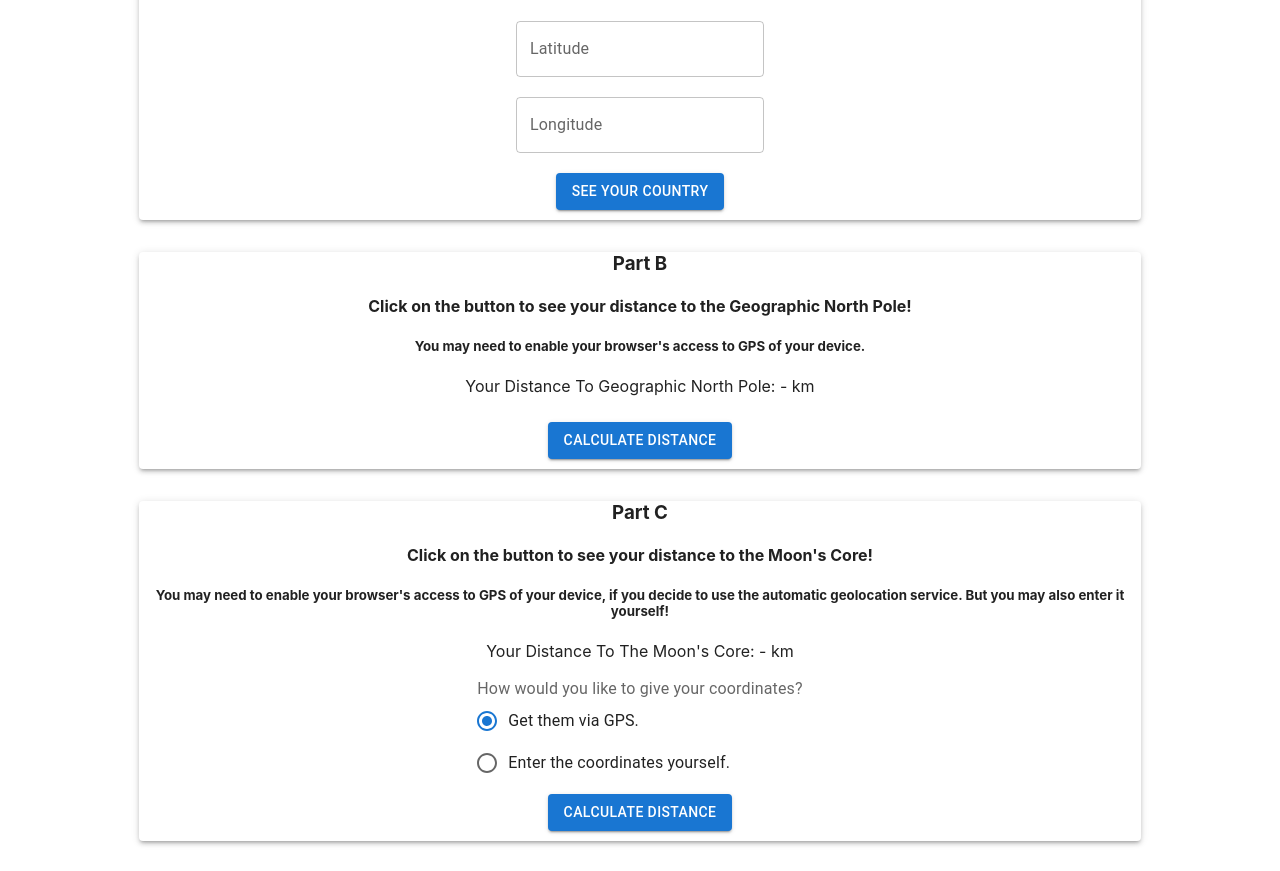
Test: Checking for manual input to part C (like part A): › do not accept wrong coordinates (both)
(page scrolled)
Step 1. Click the radio button labelled "Enter the coordinates yourself." → (603, 763), box [475,751,730,775]
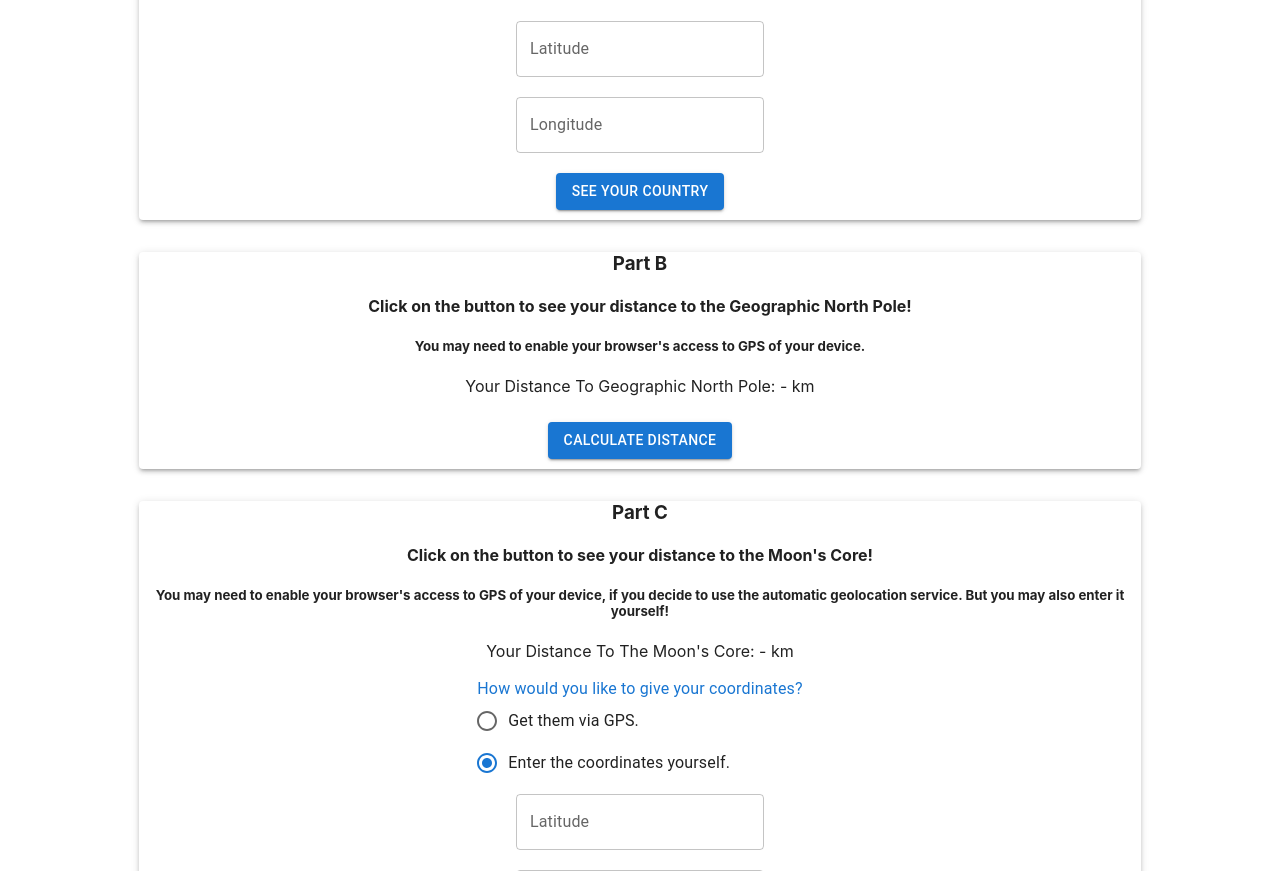
expect the radio button labelled "Enter the coordinates yourself." is checked: met, box [475,751,730,775]
Step 2. Type "-110.1054" into the field with test id "part-c-field-1" → (640, 822), box [516,794,764,850]
(page scrolled)
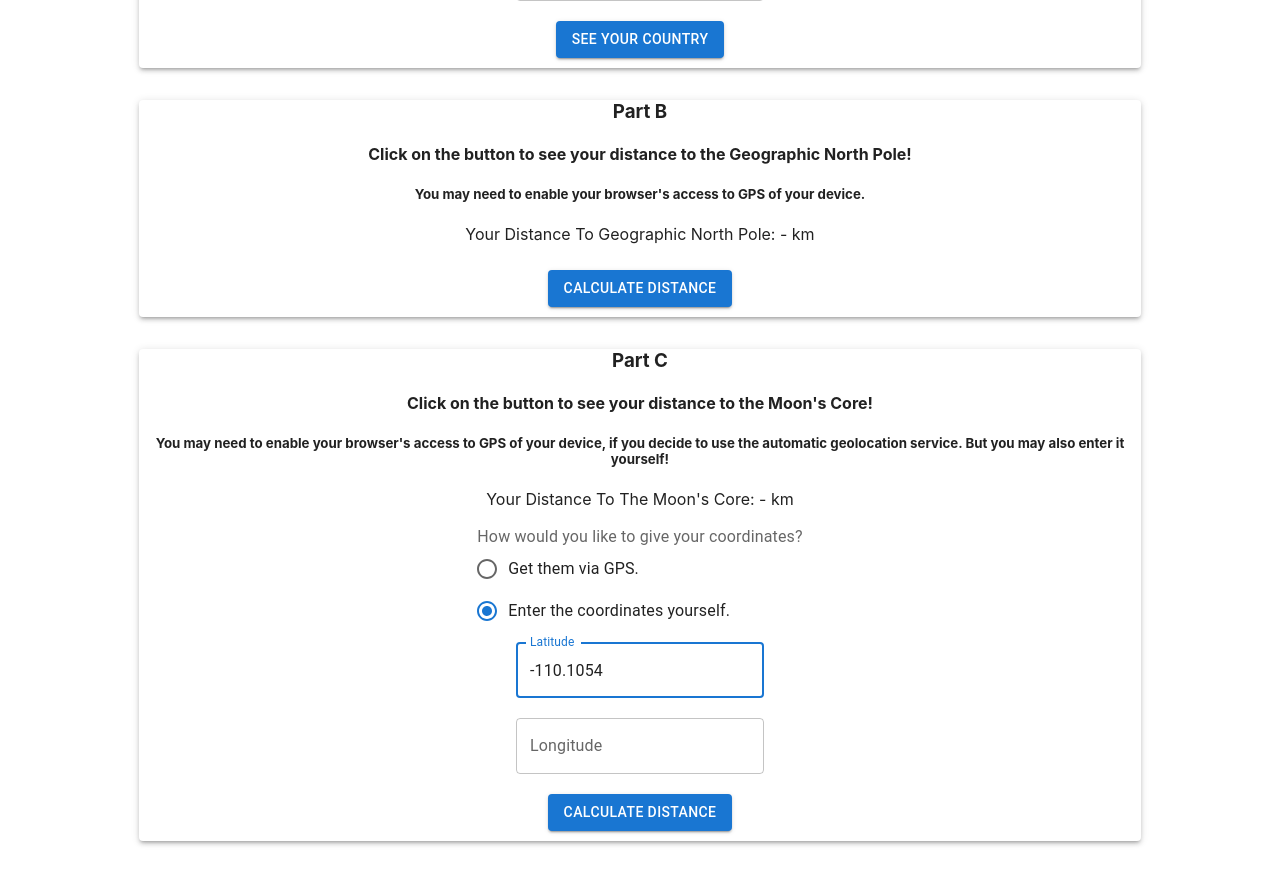
Step 3. Type "280.5610" into the field with test id "part-c-field-2" → (640, 746), box [516,718,764,774]
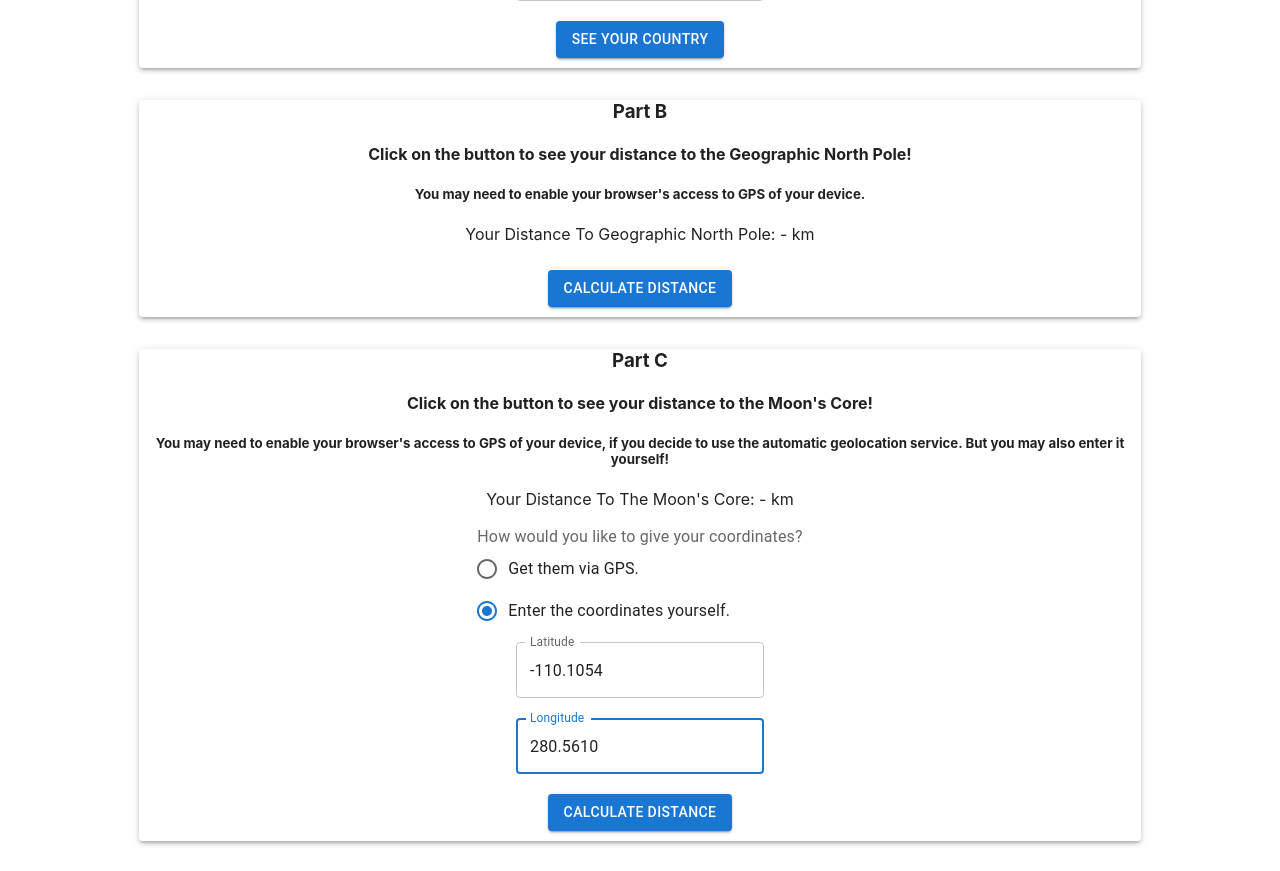
Step 4. Click the button with test id "part-c-button" → (640, 813), box [548,794,732,831]
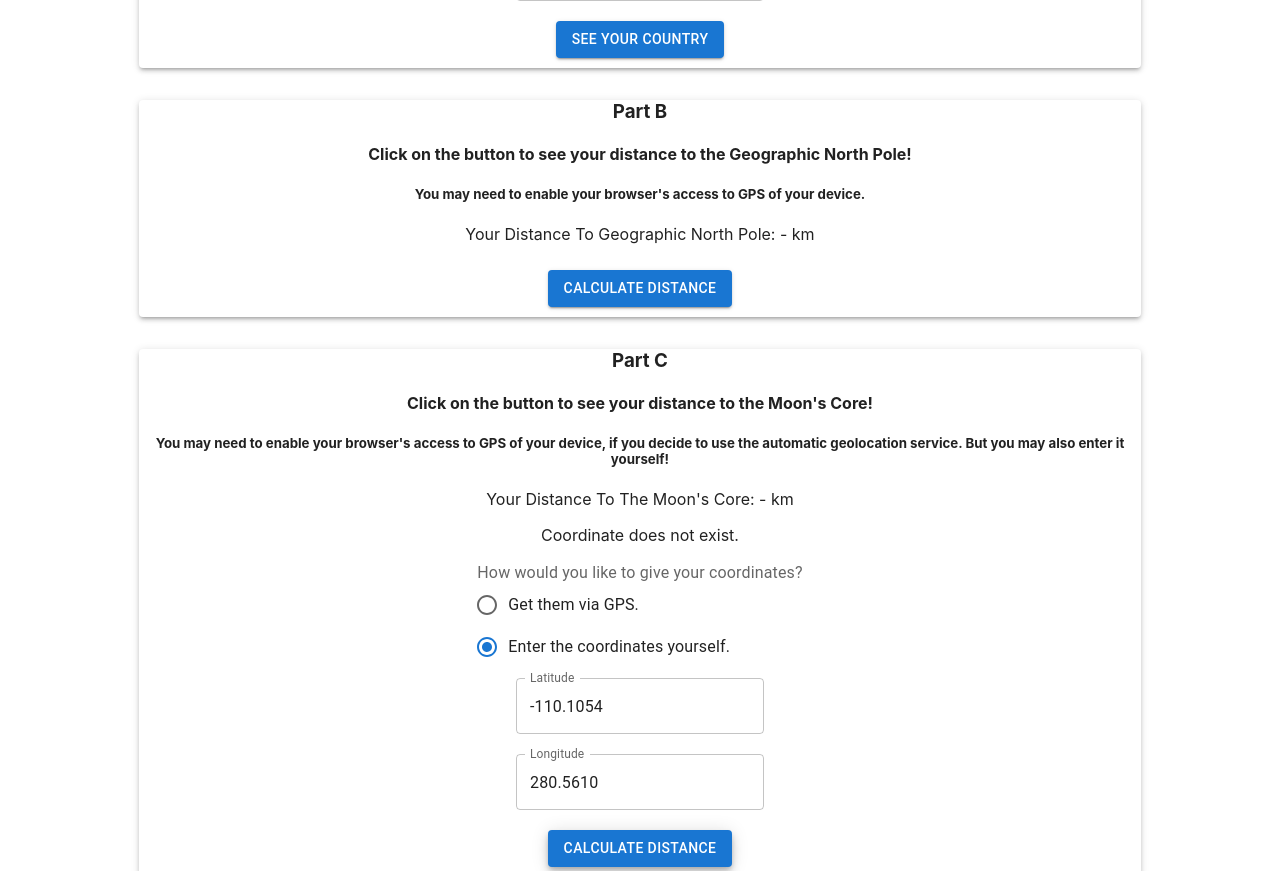
expect the text with test id "part-c-paragraph" shows "-": met, box [759,489,771,509]
expect the text with test id "part-c-error" reads "Coordinate does not exist.": met, box [541,525,739,545]
